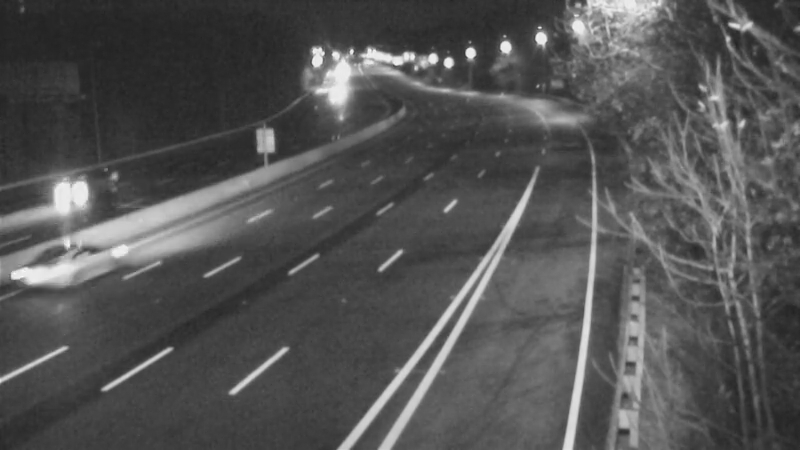vehicle: (30, 231, 110, 311), (30, 149, 110, 229)
